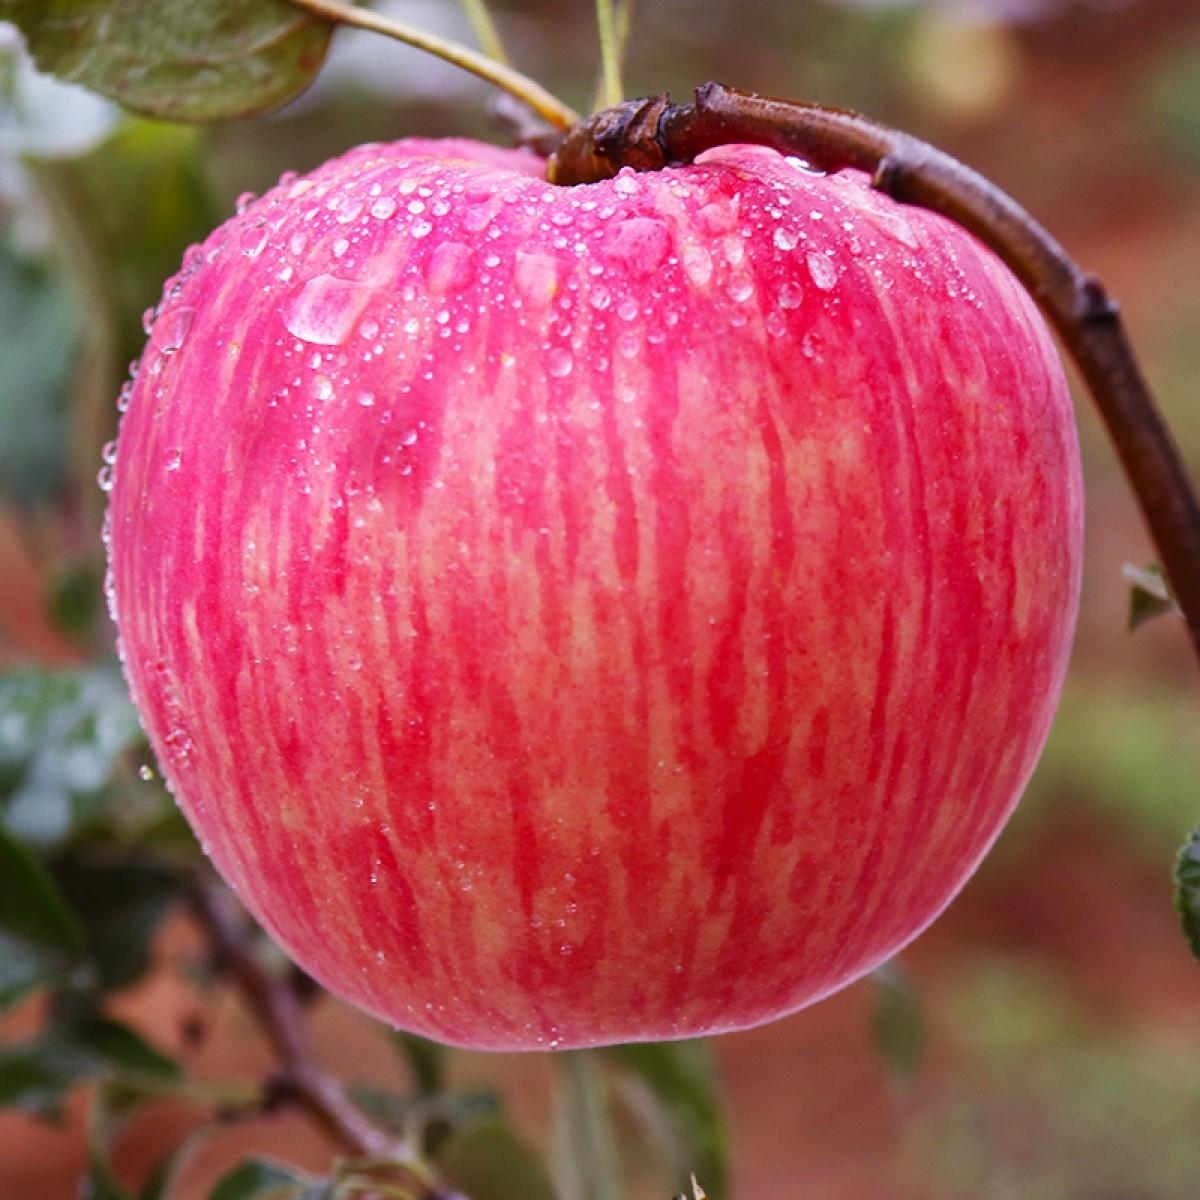apple: (108, 99, 1100, 1047)
